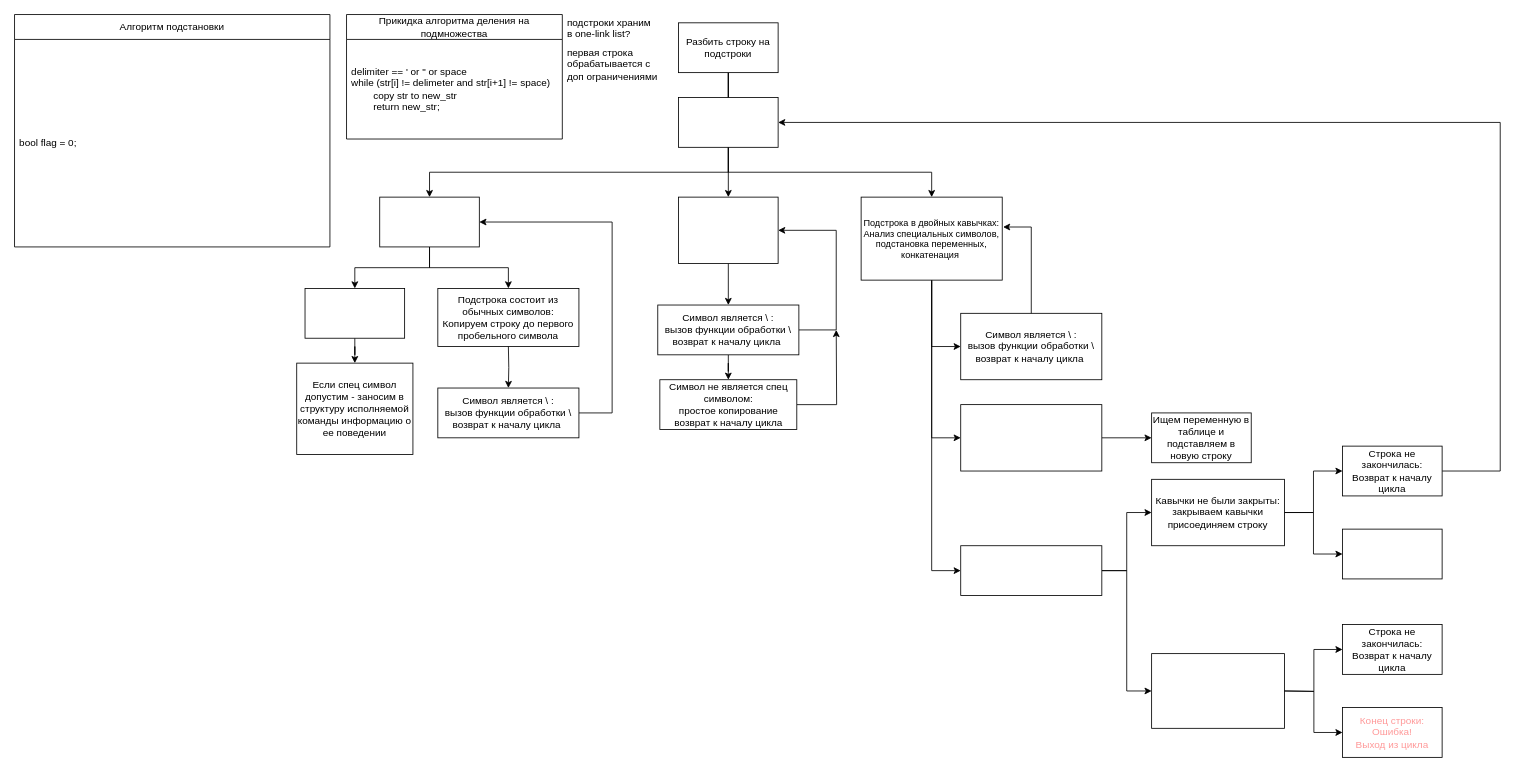
Some shapes in this 1521 by 772 pixel diagram are drawn without their labels. Each missing label, with the centre of its shape:
Кавычки закрыты: Открываем кавычки устанавливаем delimeter: the point at 1217,690
Конец строки: Успех! Выход из цикла: the point at 1392,553
Начало цикла обработки подстроки: the point at 728,122
Подстрока без кавычек начало цикла: the point at 429,221
Подстрока в одинарных кавычках: начало цикла: the point at 728,230
Подстрока является редиректом/пайпом или другим спец символом: the point at 354,313
Символ является " :: the point at 1031,570
Символ является $ : читаем строку до пробела или спец символа: the point at 1031,437
